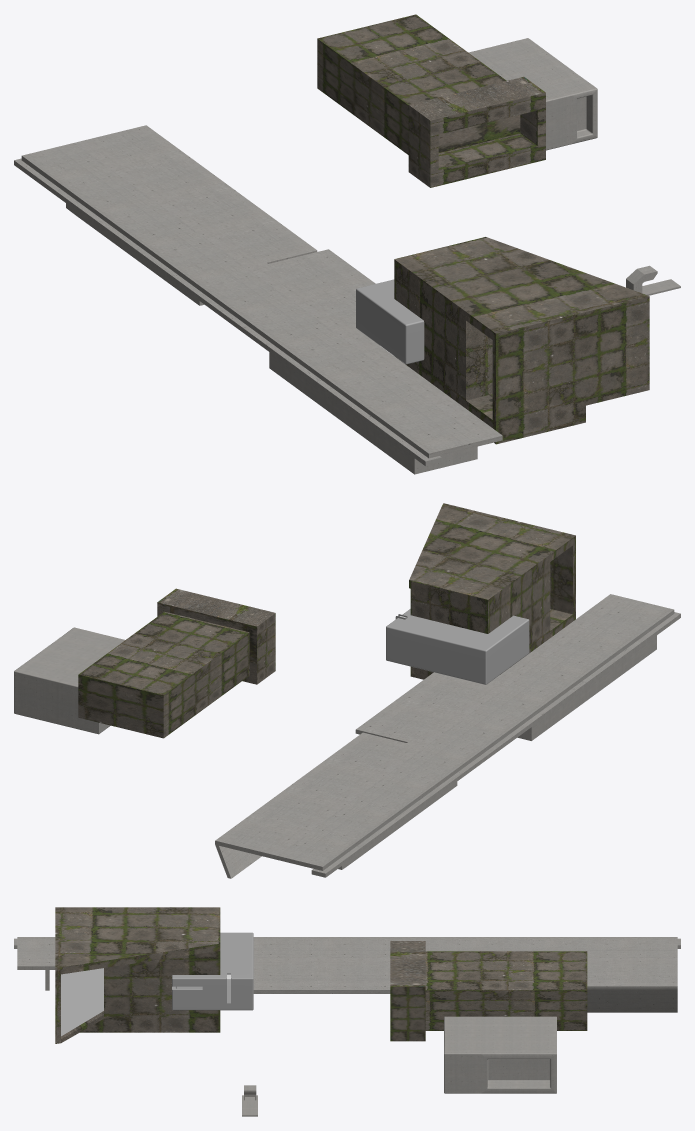
File: uv_wall.fbx
3 views of the same model, one above another, from view 1: azimuth 30°, elevation 25°; view 2: azimuth 150°, elevation 25°; view 3: azimuth 270°, elevation 25° (orthographic). The views are drawn at different scales.
Parts seen in each view (by area): view 1: pCube108, pCube347, pCube315, pCube314, pCube253, pCube348, pCube224, pCube200; view 2: pCube108, pCube315, pCube347, pCube348, pCube314, pCube253, pCube224, pCube200; view 3: pCube347, pCube108, pCube315, pCube314, pCube348.
Boxes of the visible parts, x1=… form: pCube108: x1=21, y1=125, x2=502, y2=458; pCube347: x1=394, y1=237, x2=649, y2=444; pCube315: x1=317, y1=14, x2=545, y2=187; pCube314: x1=468, y1=38, x2=597, y2=150; pCube253: x1=14, y1=158, x2=441, y2=466; pCube348: x1=356, y1=279, x2=424, y2=364; pCube224: x1=269, y1=352, x2=477, y2=474; pCube200: x1=66, y1=203, x2=204, y2=305; pCube108: x1=215, y1=594, x2=674, y2=878; pCube315: x1=78, y1=588, x2=275, y2=738; pCube347: x1=409, y1=503, x2=575, y2=679; pCube348: x1=386, y1=609, x2=529, y2=684; pCube314: x1=14, y1=627, x2=124, y2=734; pCube253: x1=311, y1=612, x2=680, y2=877; pCube224: x1=517, y1=635, x2=656, y2=740; pCube200: x1=338, y1=782, x2=457, y2=869; pCube347: x1=55, y1=907, x2=220, y2=1043; pCube108: x1=17, y1=937, x2=677, y2=1012; pCube315: x1=390, y1=941, x2=587, y2=1041; pCube314: x1=444, y1=1016, x2=556, y2=1093; pCube348: x1=172, y1=932, x2=253, y2=1010.
Size of the model in its own units: 9607 by 3096 by 15635.
4 materials, 2 textured.
